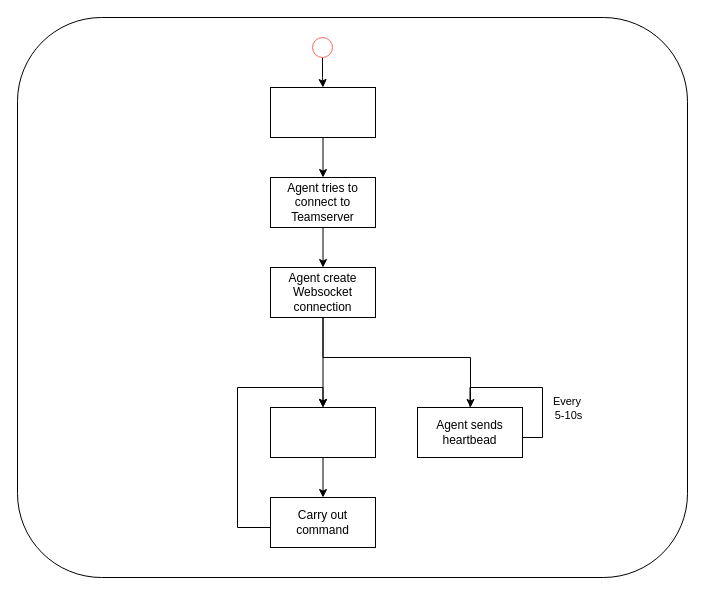
The diagram is 705 pixels wide and 595 high, and some of its shapes have lost their labels. The centre of each missing label's shape, as x and y in pixels:
"Agent get host information" belongs at point 323,112.
"Agent listen on Websocket for commands" belongs at point 323,432.
